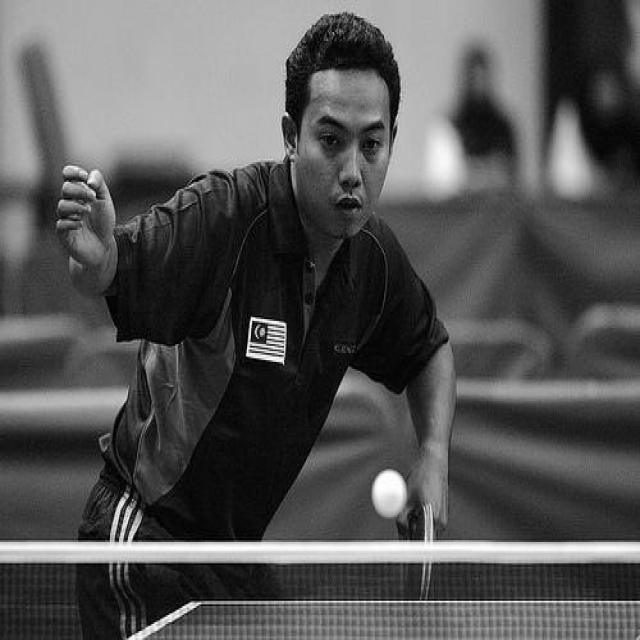ping-pong-ball: (372, 466, 408, 518)
